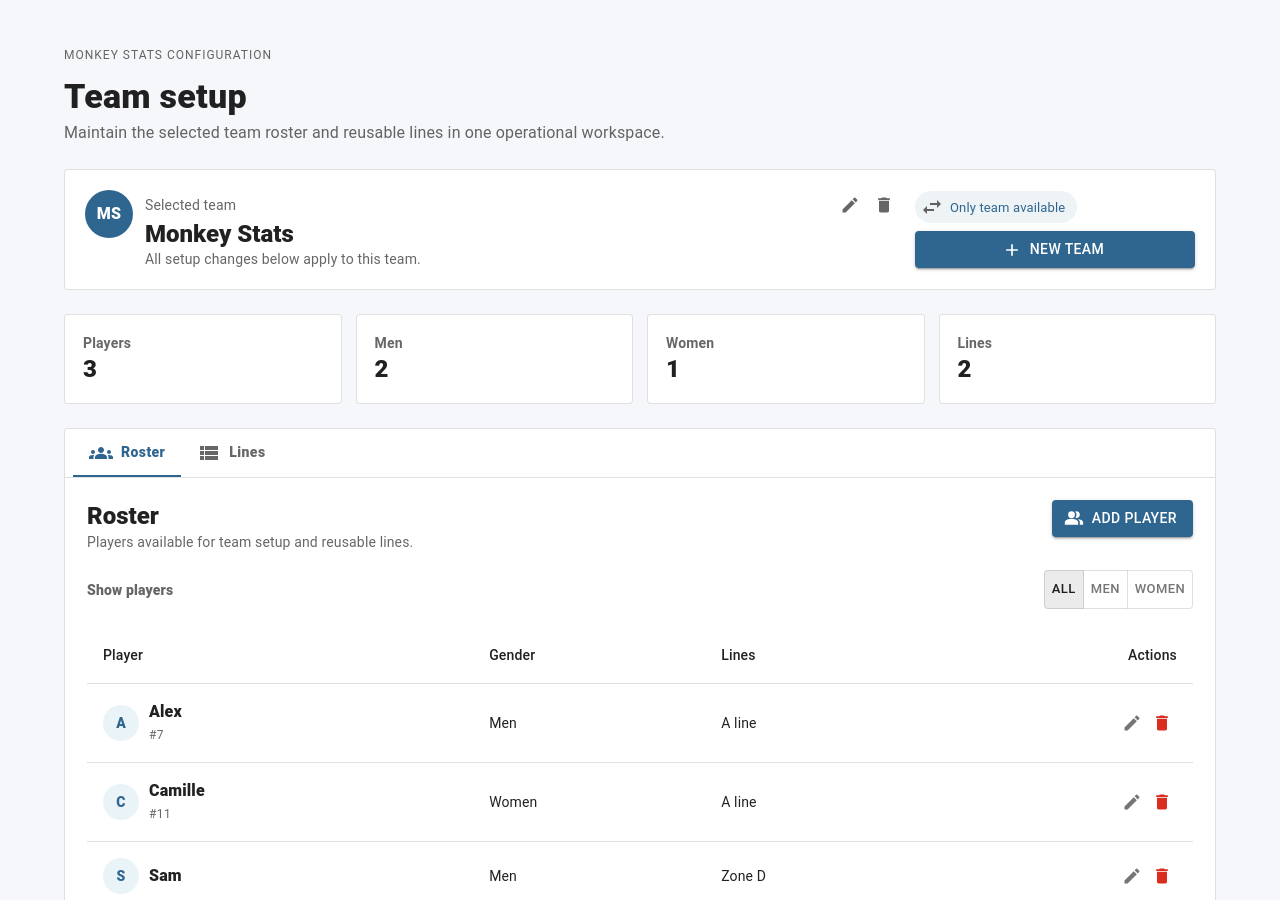
Test: TeamSetupPage › closes the edit player modal when cancelling
The width and height of the screenshot is (1280, 900).
Step 1. Click the button named "Edit Alex" → (1132, 723), box x1=1117 y1=708 x2=1147 y2=738
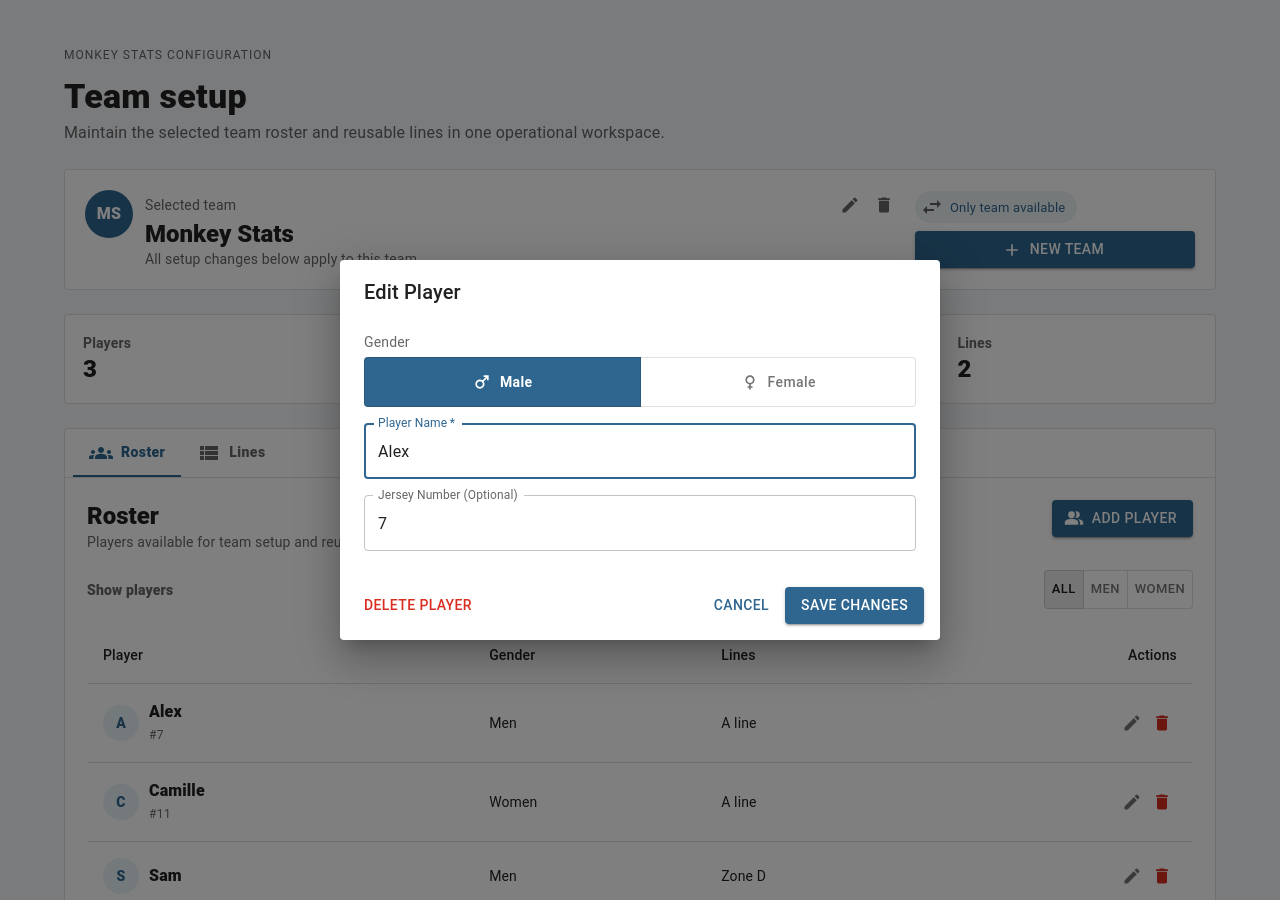
Step 2. Click the button "Cancel" → (741, 606), box x1=706 y1=588 x2=777 y2=624
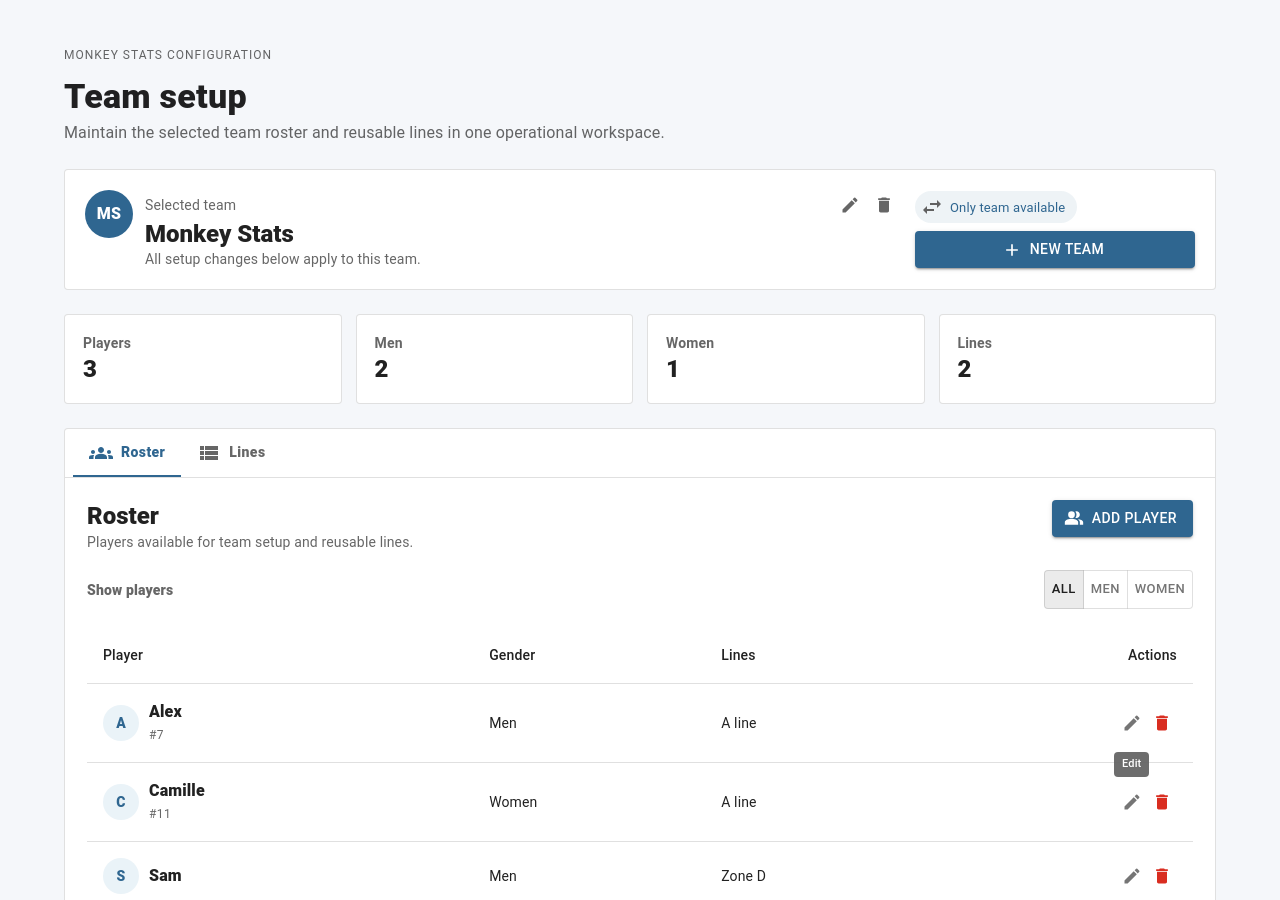
Now the heading "Edit Player" is gone
